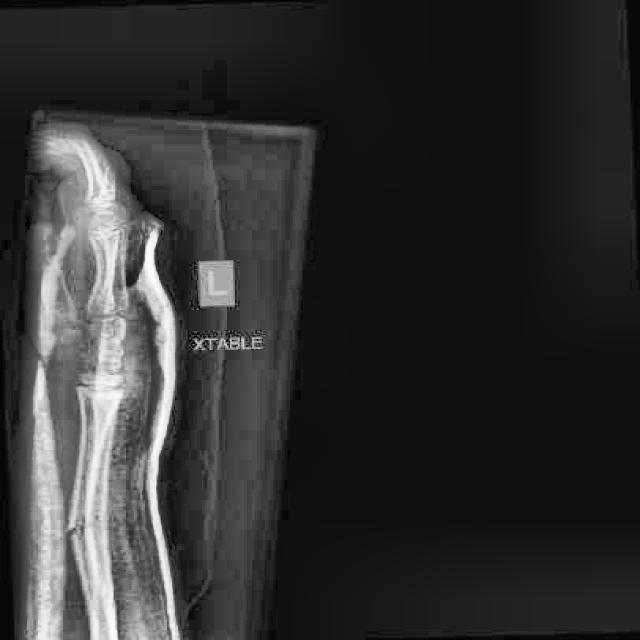forearm fracture: (60, 497, 110, 553)
